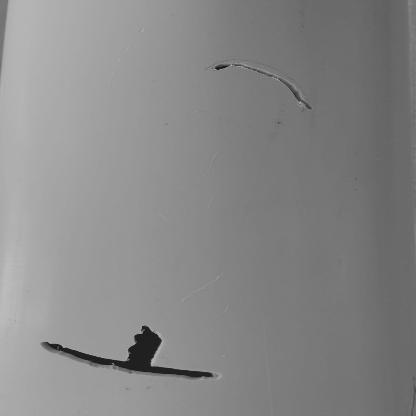fengxi: (41, 341, 218, 381), (211, 62, 314, 111)
kongdong: (123, 325, 163, 366)
